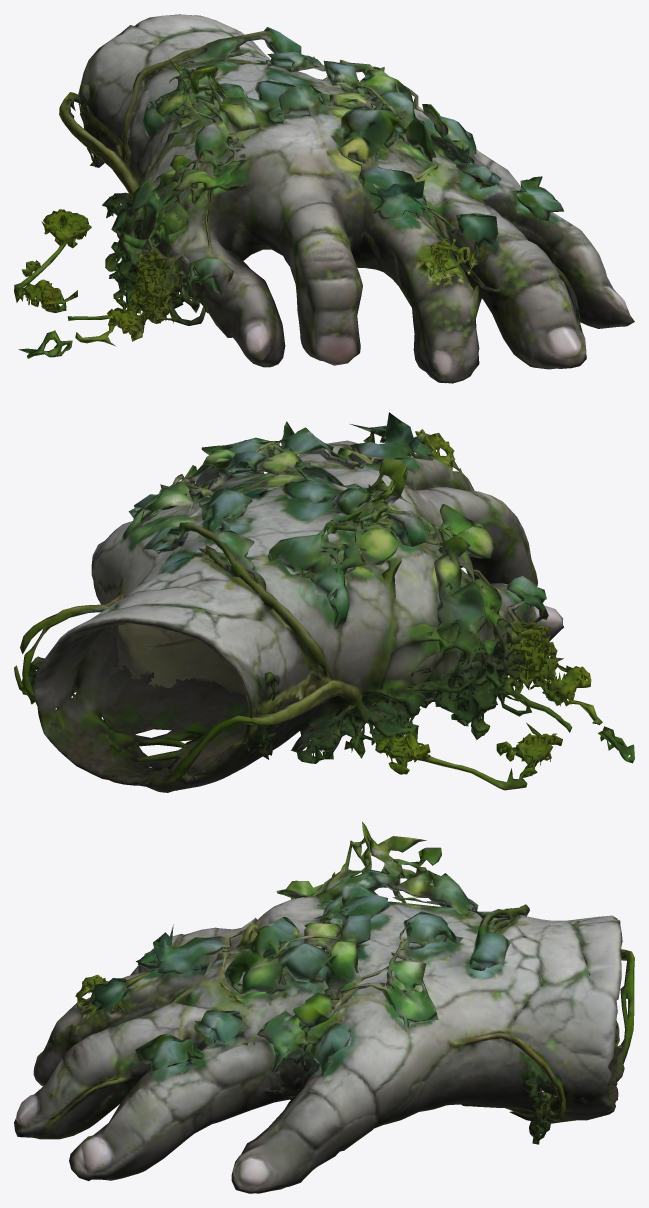
File: a_hand_made_of_stone__0610152153_texture.fbx
3 views of the same model, one above another, from view 1: azimuth 30°, elevation 25°; view 2: azimuth 150°, elevation 25°; view 3: azimuth 270°, elevation 25° (orthographic). The views are drawn at different scales.
Visible parts, largest first — view 1: Mesh1; view 2: Mesh1; view 3: Mesh1.
Part boxes in pixels (box(x1,y1,x2,y2)): Mesh1: box(14, 14, 634, 383); Mesh1: box(14, 412, 634, 792); Mesh1: box(14, 821, 634, 1193).
Size of the model in its own units: 188 by 84.03 by 199.
Materials: 1 (1 with a texture image).
